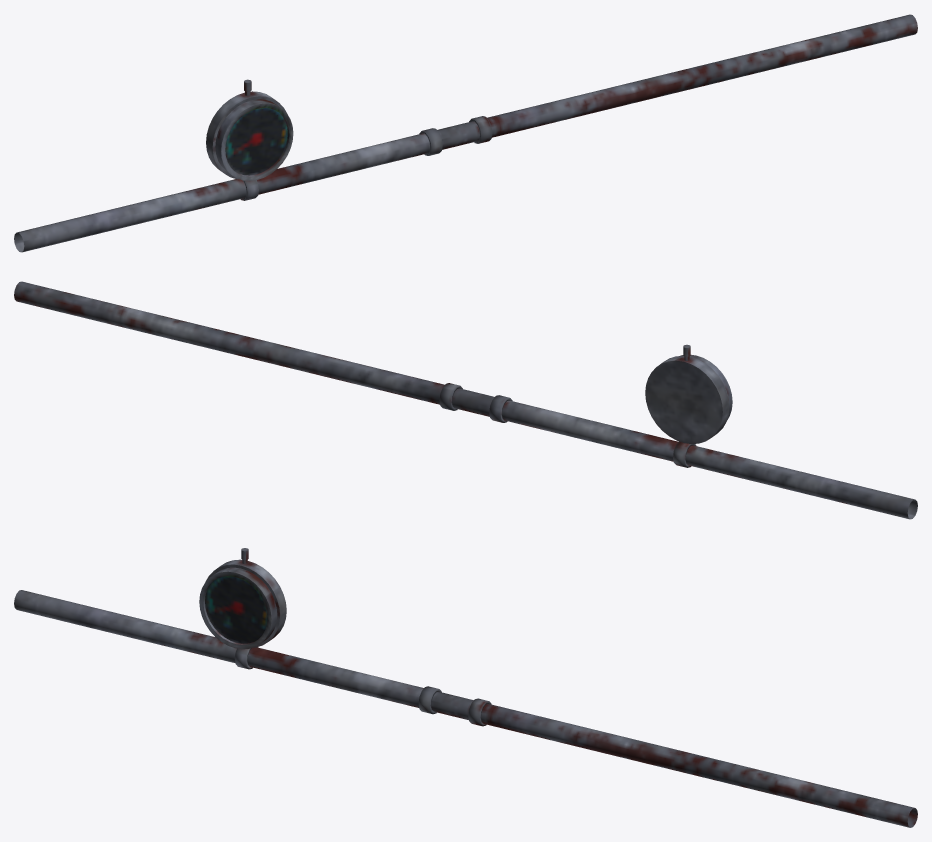
File: small pipe with pressure gauge.fbx
3 renders of one model, top to bottom at view 1: azimuth 30°, elevation 25°; view 2: azimuth 150°, elevation 25°; view 3: azimuth 330°, elevation 25°, orthographic.
Visible parts, largest first — view 1: NurbsPath, Cylinder; view 2: NurbsPath, Cylinder; view 3: NurbsPath, Cylinder.
Boxes of the visible parts, x1,y1,x2,y2 form: NurbsPath: (14,14,917,252); Cylinder: (206,79,293,180); NurbsPath: (14,281,917,519); Cylinder: (645,344,732,443); NurbsPath: (14,590,917,827); Cylinder: (199,548,286,649).
Bounding box in the file's own units: 1311 × 166 × 44.32.
